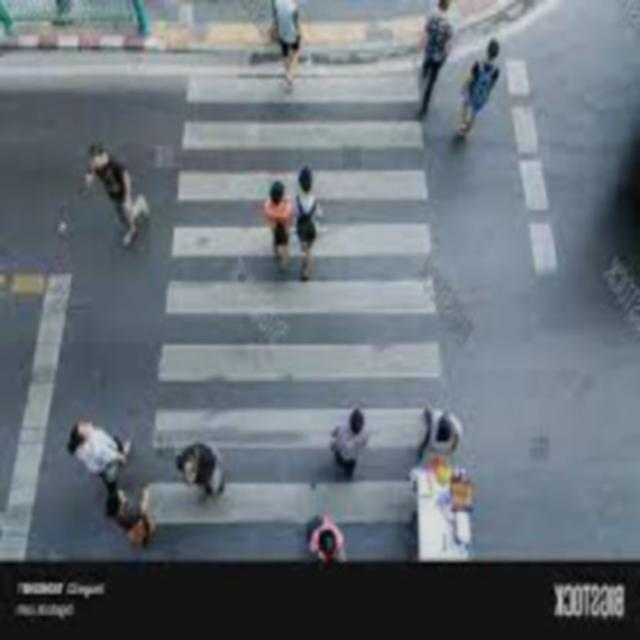Pedestrian crosswalk: (120, 30, 454, 599)
